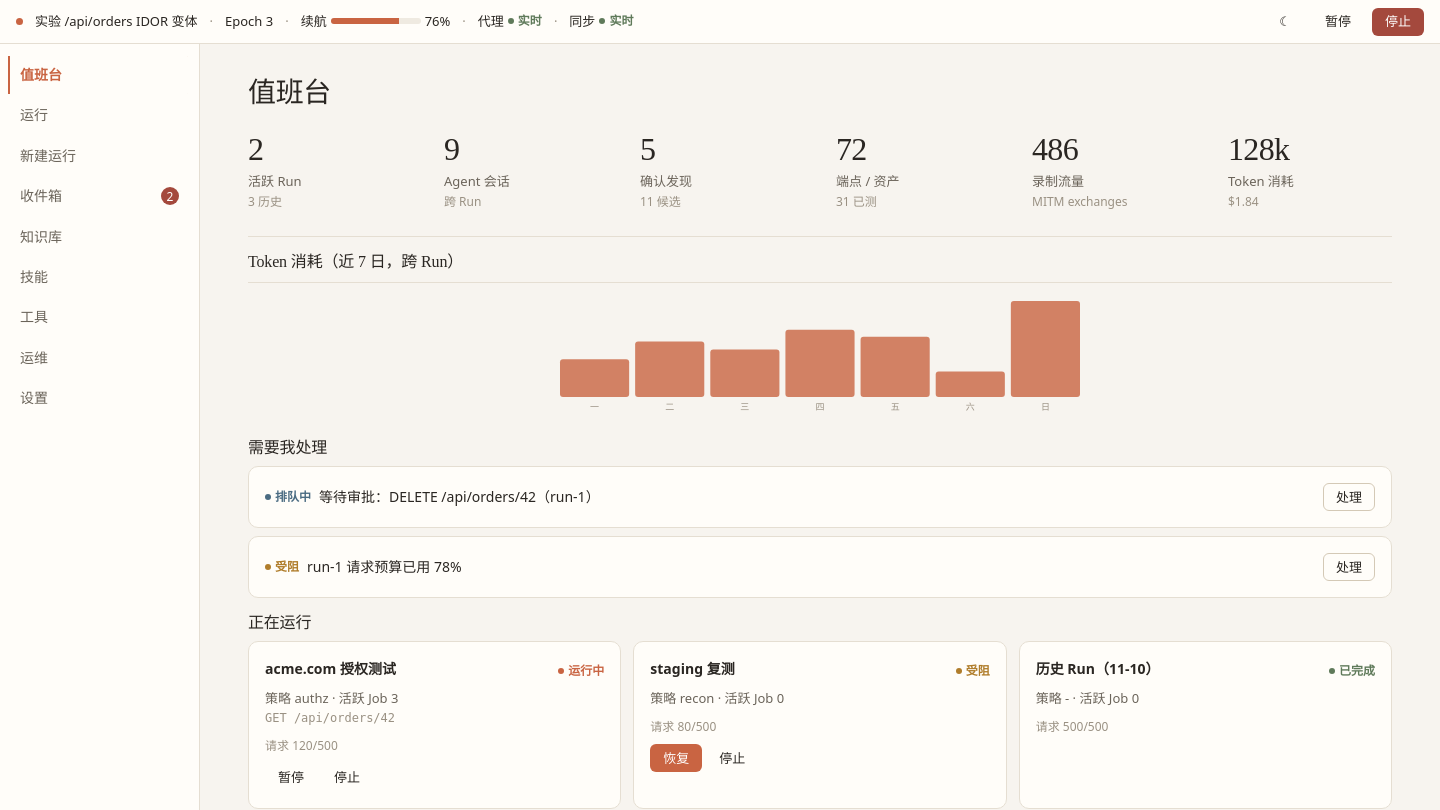
it: App 外壳与导航 › Inbox 待办角标显示，进入显示分类通知 + 审批 Tab
Click the text "收件箱".
click(41, 196)  # box [20,185,62,208]
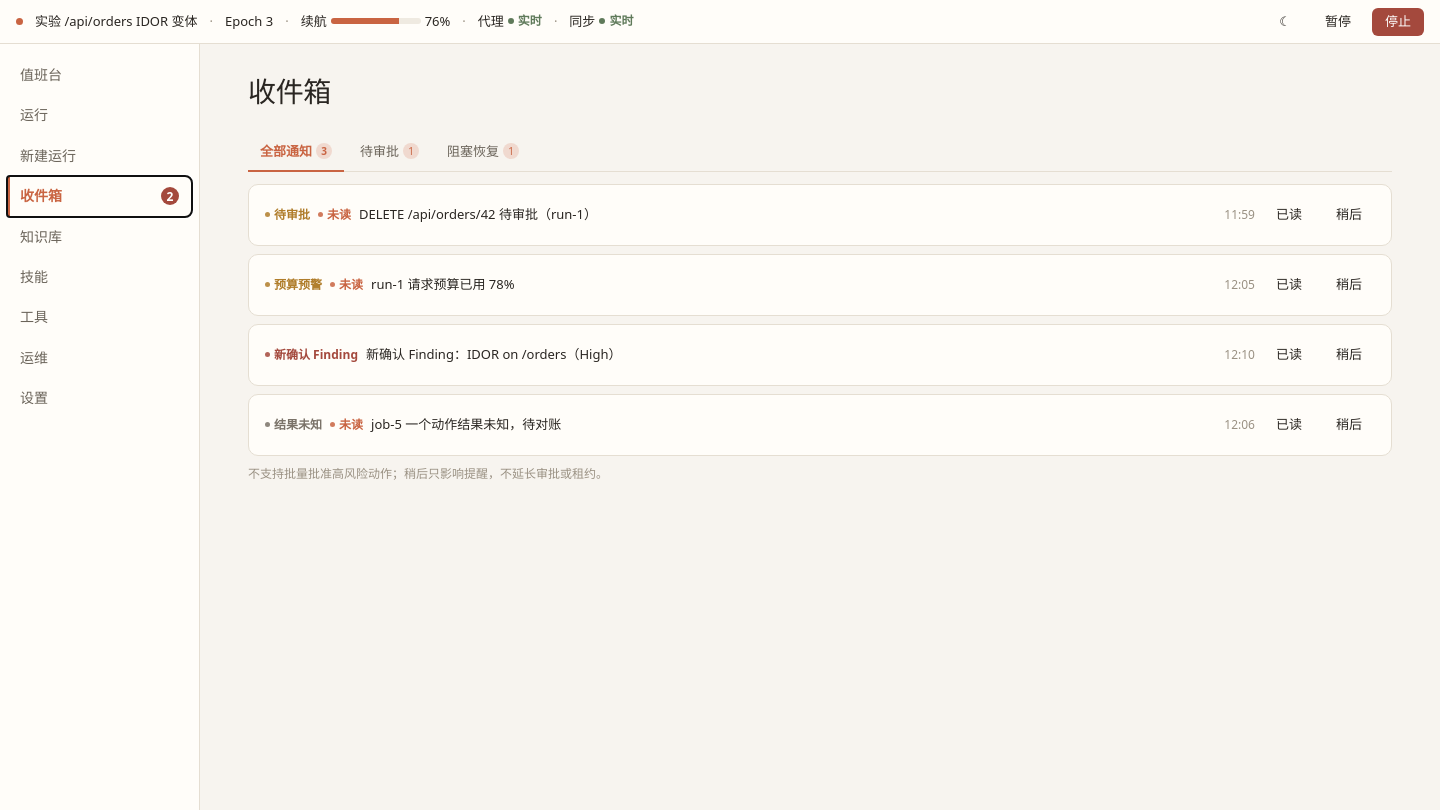
Expected: the text "run-1 请求预算已用 78%" is shown, [371,274,514,295]
Expected: the heading "收件箱" is shown, [248,76,331,109]
// 切到待审批 Tab → ApprovalCenter。
Click the tab "待审批 1".
click(390, 152)  # box [348,133,431,172]
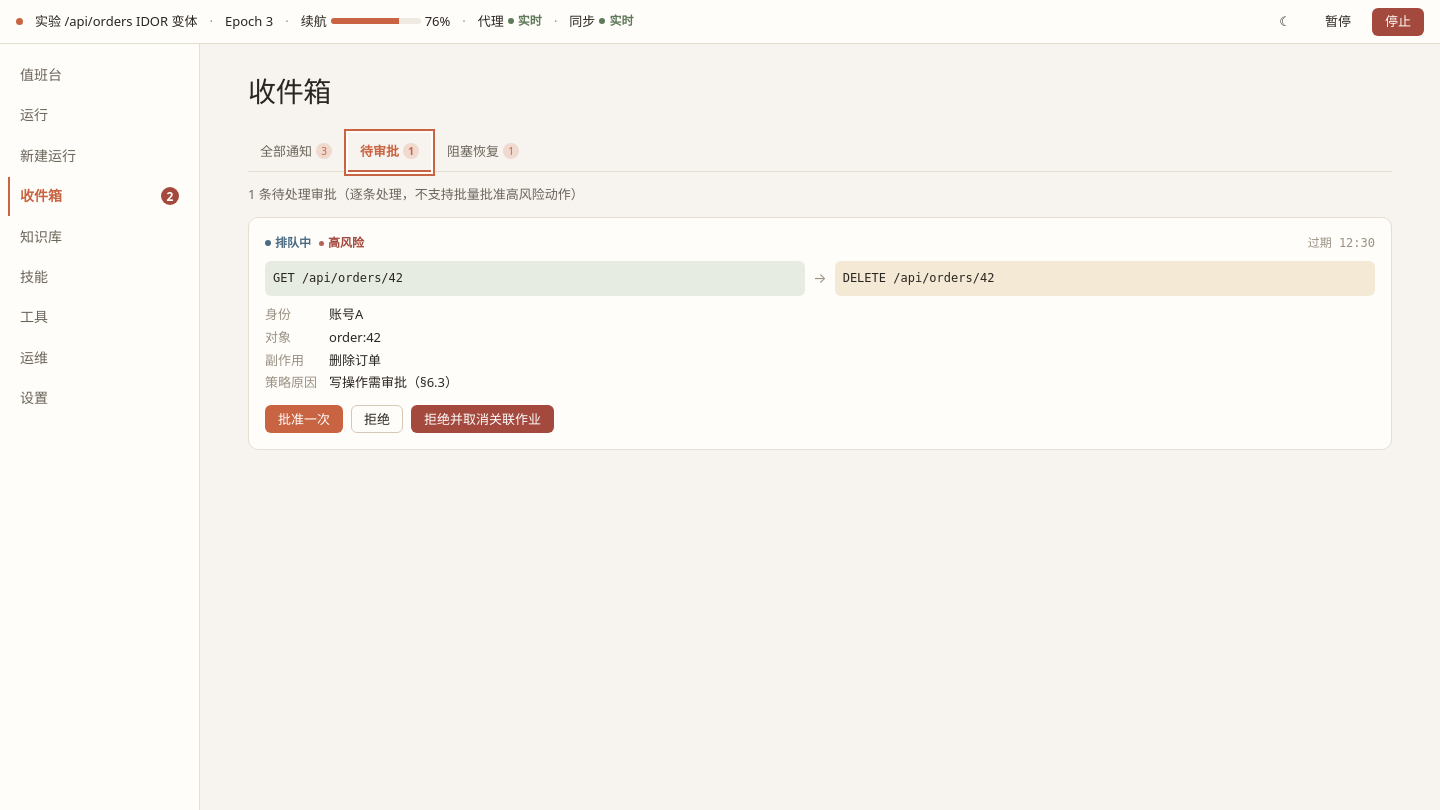
Expected: the button "批准一次" is shown, [265,405,343,433]
